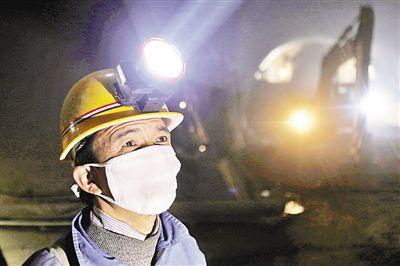hard-hat: (57, 66, 184, 161)
person: (20, 65, 208, 266)
